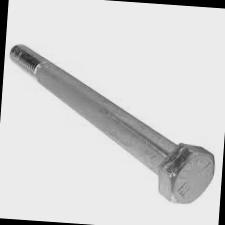screw: (156, 142, 216, 206)
